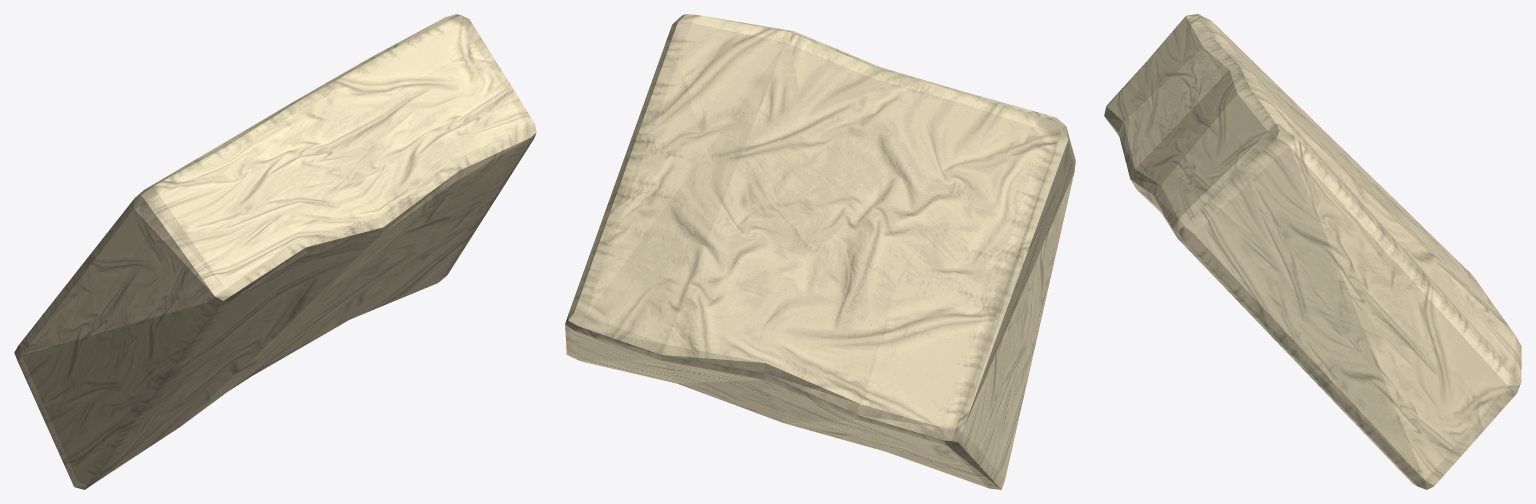
The model's file is ISS_INT_props_Square_Bag_3.FBX.
3 views of the same model, side by side, from view 1: azimuth 30°, elevation 25°; view 2: azimuth 150°, elevation 25°; view 3: azimuth 270°, elevation 25° (orthographic). The views are drawn at different scales.
Parts seen in each view (by area): view 1: Object008; view 2: Object008; view 3: Object008.
Boxes of the visible parts, x1,y1,x2,y2 form: Object008: [14, 14, 536, 489]; Object008: [565, 14, 1075, 489]; Object008: [1104, 14, 1521, 489].
Size of the model in its own units: 0.0444 by 0.0404 by 0.0371.
